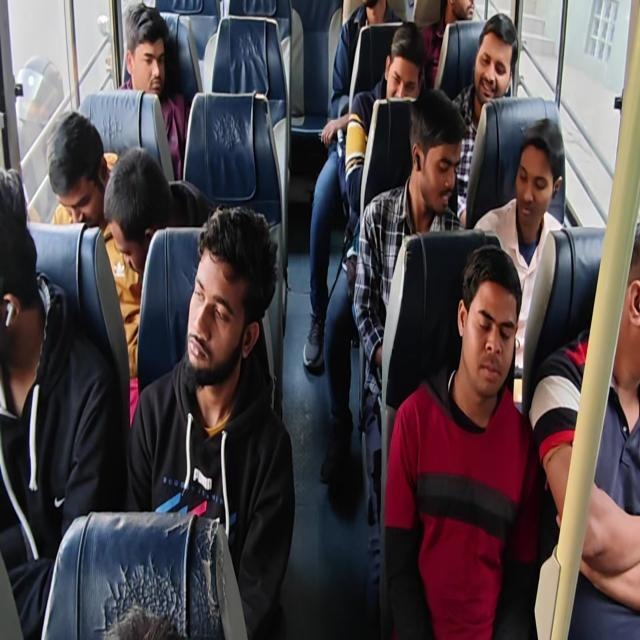person: (184, 210, 262, 392), (0, 182, 37, 360), (462, 264, 512, 386), (409, 117, 462, 226), (602, 236, 640, 375), (108, 163, 164, 249), (48, 123, 95, 218), (127, 12, 172, 98), (518, 130, 556, 230), (474, 22, 508, 104), (388, 36, 422, 102), (447, 0, 481, 25), (355, 0, 383, 22)
